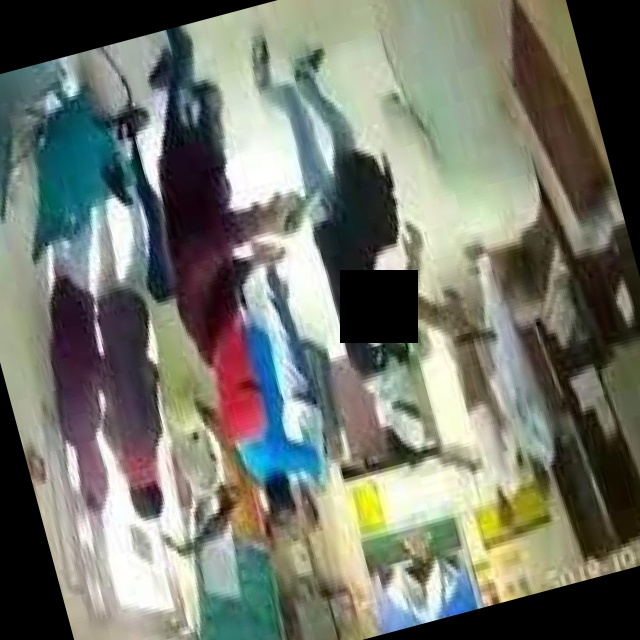gun: (260, 166, 334, 241), (434, 293, 505, 364)
